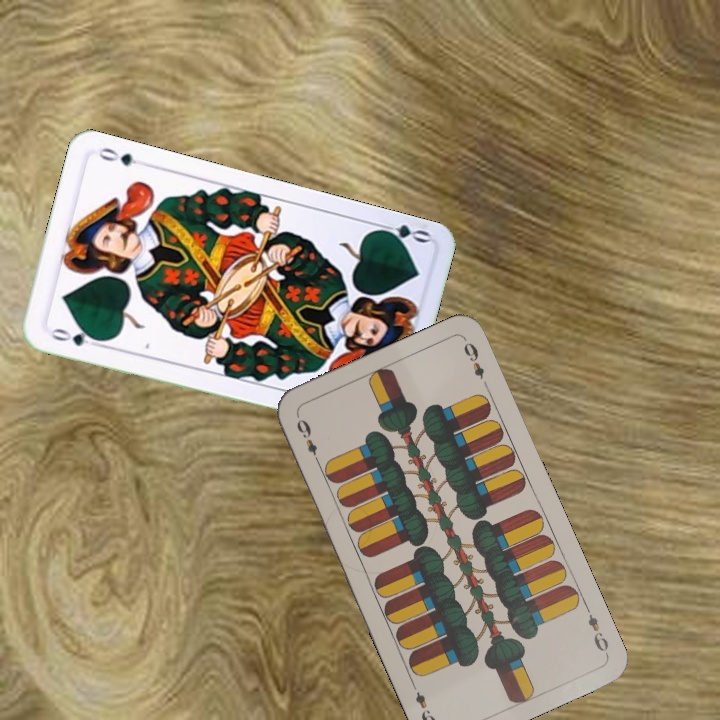E9: (581, 601, 611, 657), (292, 414, 323, 468)
GO: (371, 219, 432, 249), (45, 324, 103, 350)
